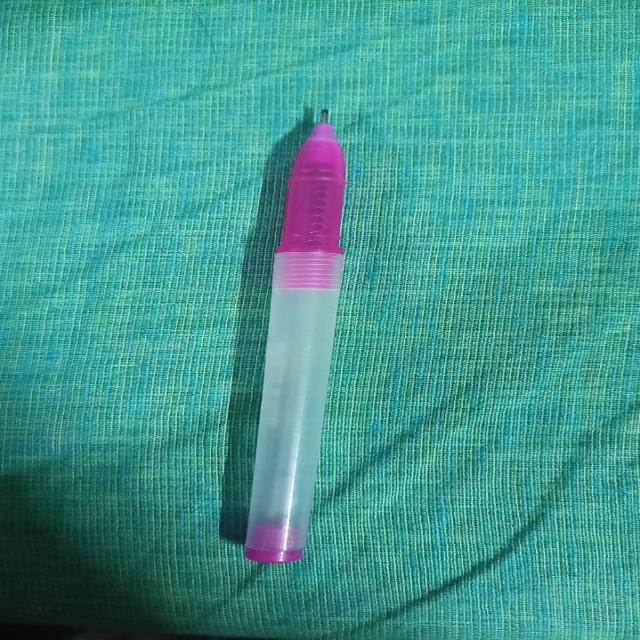pen: (229, 100, 358, 574)
